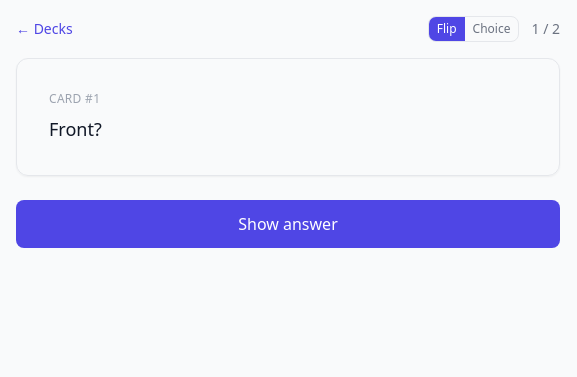
Test: StudyPage › Hard schedules twelve hours later without re-queueing the card
This screenshot has width=577, height=377.
Click the button "Show answer" at (288, 224), box [16,200,560,248]
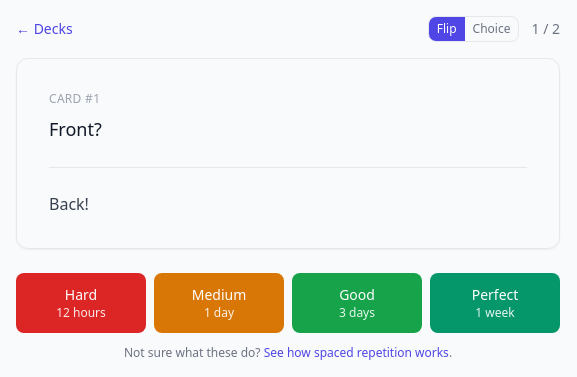
Click the button "Hard 12 hours" at (81, 303), box [16,273,146,333]
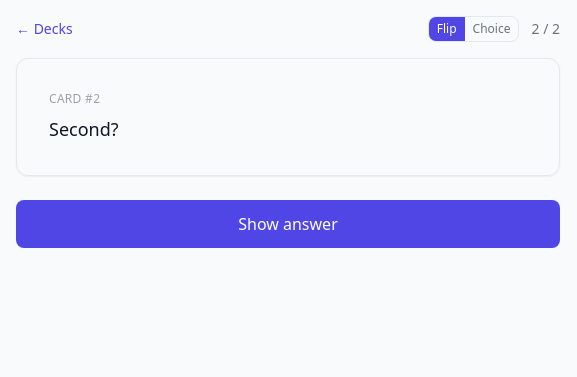
Now the text "Second?" is shown, box [49,117,119,141]
Now the text "Card #2" is shown, box [49,90,100,107]
Click the button "Show answer" at (288, 224), box [16,200,560,248]
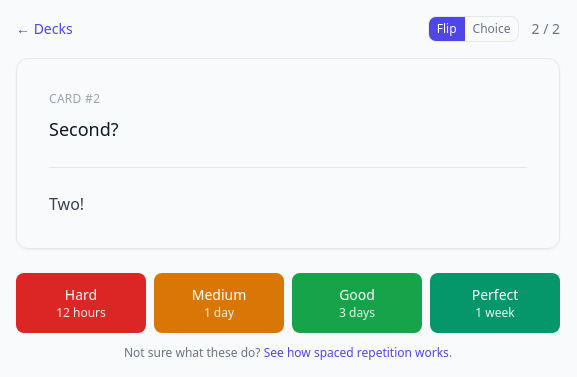
Click the button "Good 3 days" at (357, 303), box [292,273,422,333]
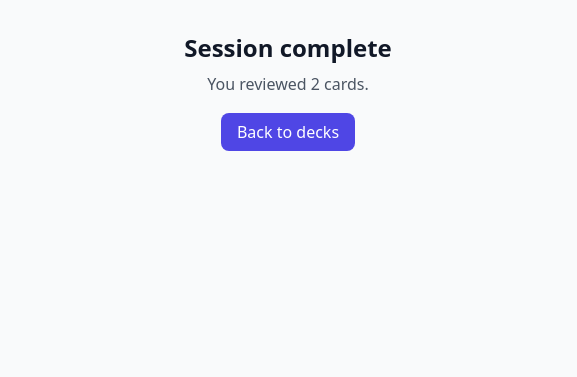
Now the heading "Session complete" is shown, box [184,31,392,64]
Now the text "You reviewed 2 cards." is shown, box [207,73,369,95]
